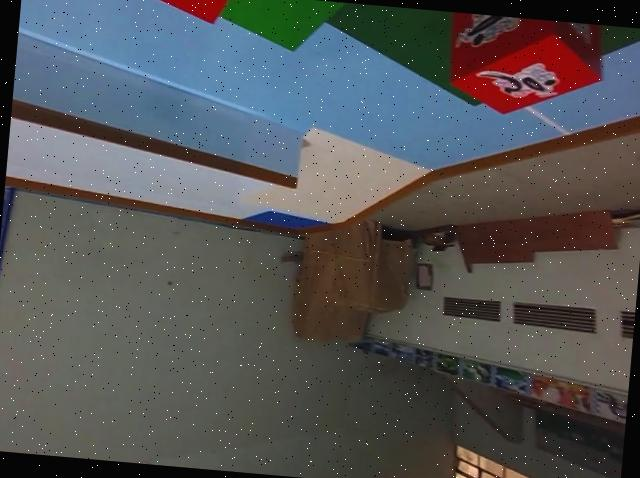R1: (444, 11, 609, 123)
